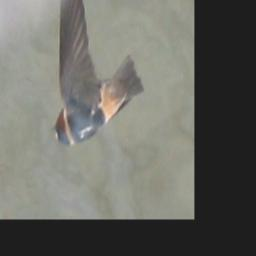Swallow: (51, 0, 145, 153)
